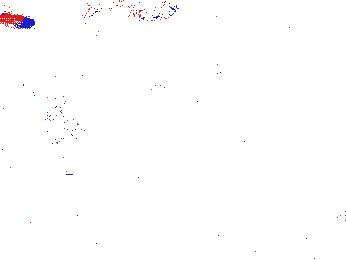X-ray fish: (39, 105, 88, 149)
glassfish: (194, 52, 302, 117)
red belly glassfish: (129, 76, 170, 95), (1, 9, 36, 31)
redtail glassfish: (75, 1, 182, 24)
